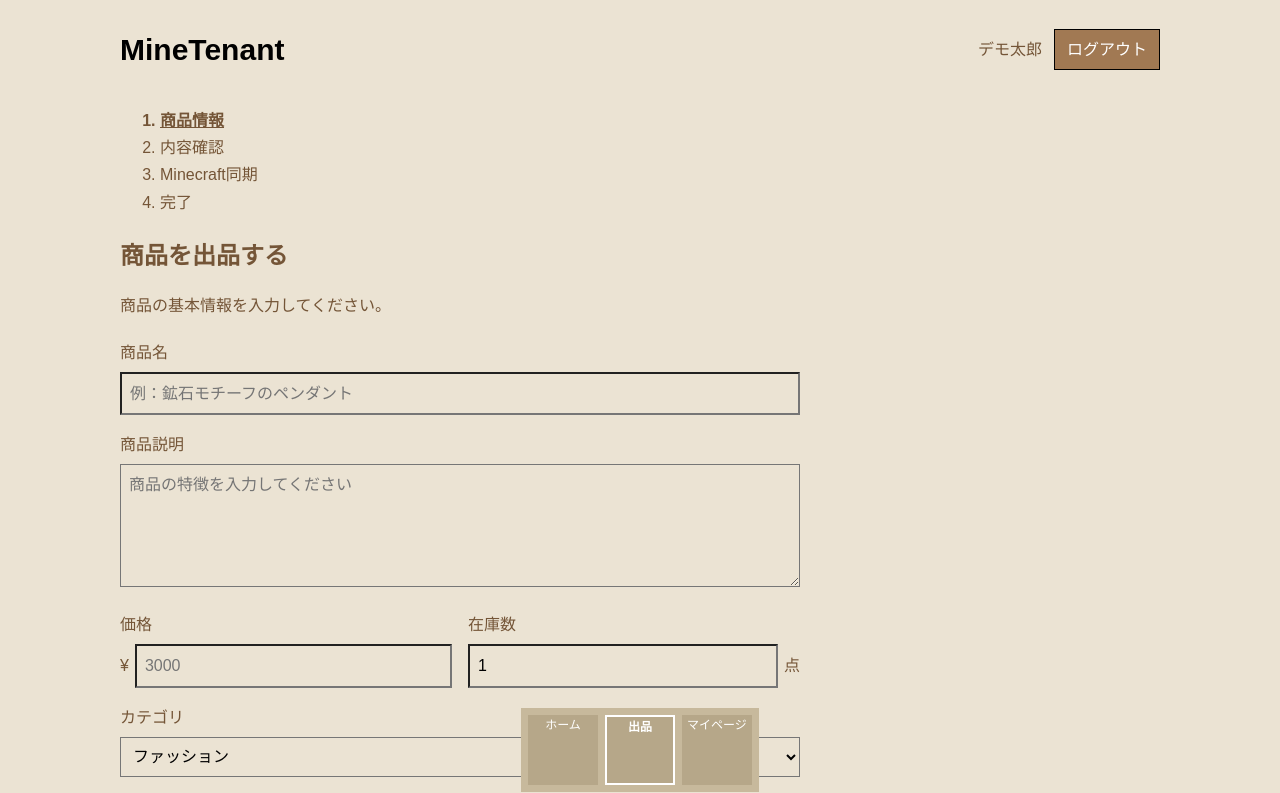
Test: MineTenant routes › ログアウトはAPI成功後にログイン画面へ戻る
Click the button "ログアウト" at (1107, 50), box x1=1054 y1=29 x2=1160 y2=70
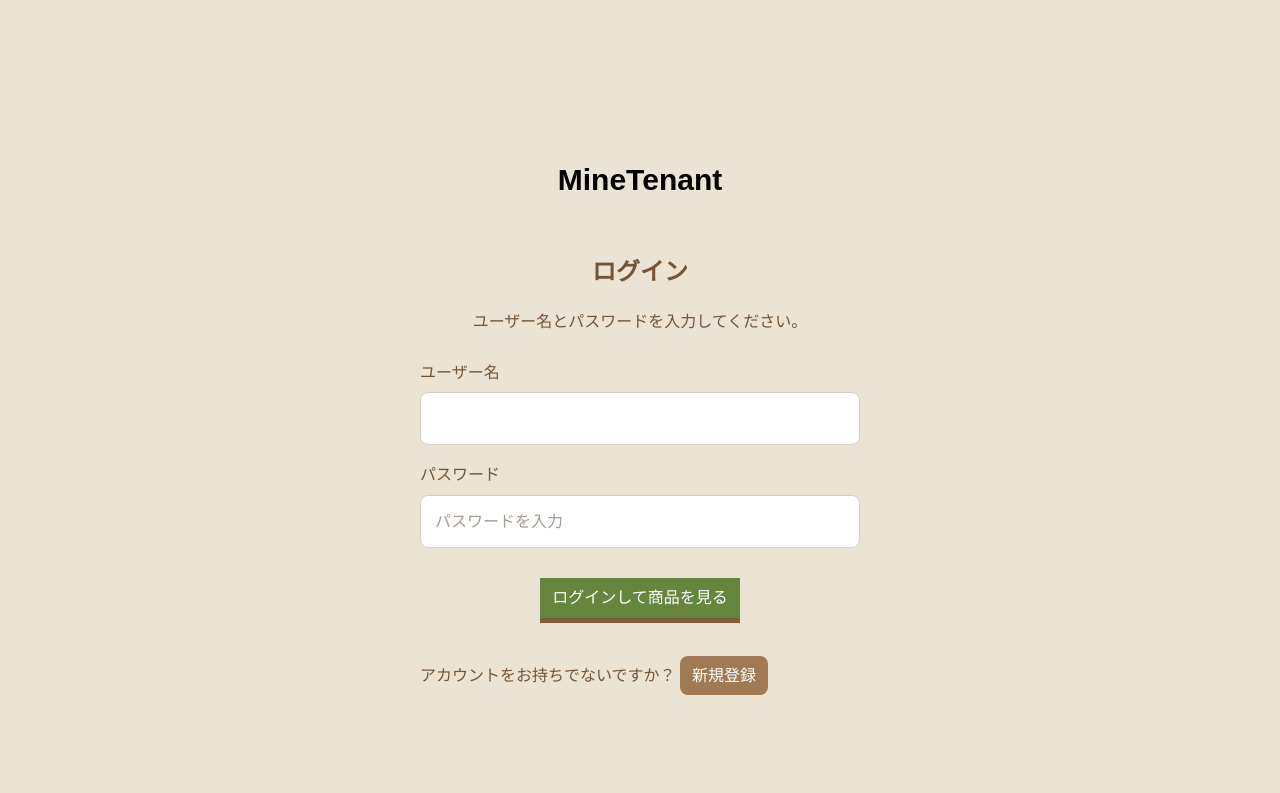
expect the field labelled "ユーザー名" is shown: met, box x1=420 y1=392 x2=860 y2=445
expect the text labelled "商品名" is gone: met
